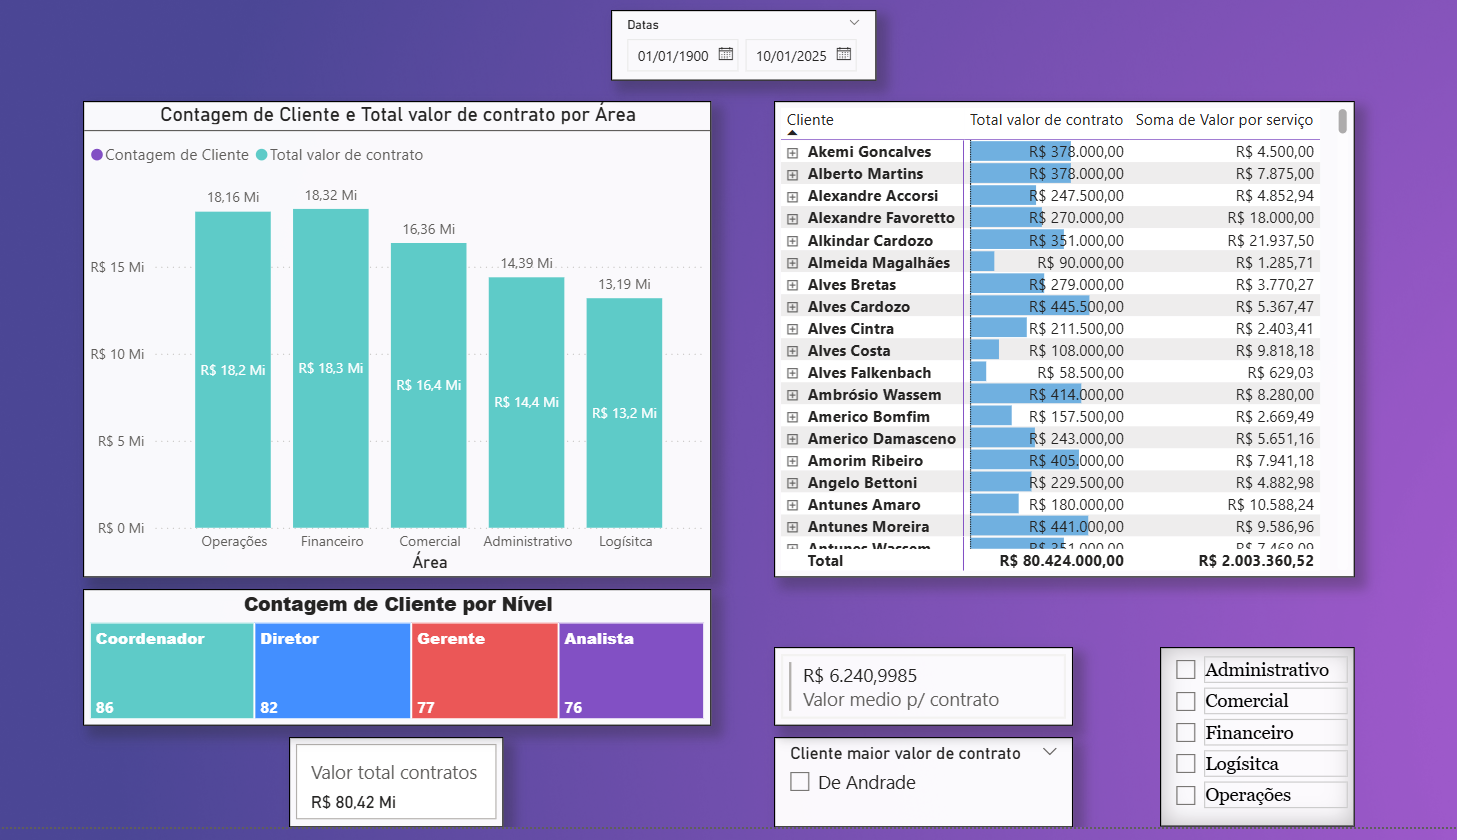

Layout of this report page (visuals, bound fields, positions):
{"tool":"powerbi","page":{"name":"Página 2","canvas":[1280,720],"ordinal":1},"visuals":[{"type":"pivotTable","fields":{"Rows":["BaseClientes.Cliente","BaseClientes.Critico"],"Values":["BaseClientes.Total valor de contrato","BaseClientes.Valor por serviço"]},"box":[680.5,94,501.1,411.4],"z":0},{"type":"columnChart","fields":{"Y":["BaseClientes.Cliente","BaseClientes.Total valor de contrato"],"Category":["BaseCargos.Área"]},"box":[84.5,94,541.7,411.4],"z":1000},{"type":"slicer","fields":{"Values":["BaseCargos.Área"]},"box":[1013.5,565,168.2,155.3],"z":2000},{"type":"cardVisual","fields":{"Data":["BaseClientes.Total valor de contrato"]},"box":[262.2,642.6,185.4,77.6],"z":3000},{"type":"slicer","fields":{"Values":["BaseClientes.Cliente"]},"box":[680.5,642.6,257.9,77.6],"z":4000},{"type":"multiRowCard","fields":{"Values":["BaseClientes.Valor medio p/ contrato"]},"box":[680.5,565,257.9,68.1],"z":5000},{"type":"treemap","fields":{"Values":["BaseClientes.Cliente"],"Group":["BaseCargos.Nível"]},"box":[84.5,514.9,541.7,118.2],"z":6000},{"type":"slicer","fields":{"Values":["BaseCalendario.Datas"]},"box":[539.9,15.5,228.6,61.2],"z":7000}]}

Visuals, with their boxes in screenshot pixels (x1, y1, x2, y2), scaled from the page's 1280x720 canvas onto the 1457x840 screenshot:
pivotTable - BaseClientes.Cliente x BaseClientes.Critico: left=775, top=110, right=1345, bottom=590
columnChart - BaseClientes.Cliente x BaseClientes.Total valor de contrato: left=96, top=110, right=713, bottom=590
slicer - BaseCargos.Área: left=1154, top=659, right=1345, bottom=839
cardVisual - BaseClientes.Total valor de contrato: left=298, top=750, right=509, bottom=839
slicer - BaseClientes.Cliente: left=775, top=750, right=1068, bottom=839
multiRowCard - BaseClientes.Valor medio p/ contrato: left=775, top=659, right=1068, bottom=739
treemap - BaseClientes.Cliente x BaseCargos.Nível: left=96, top=601, right=713, bottom=739
slicer - BaseCalendario.Datas: left=615, top=18, right=875, bottom=89
